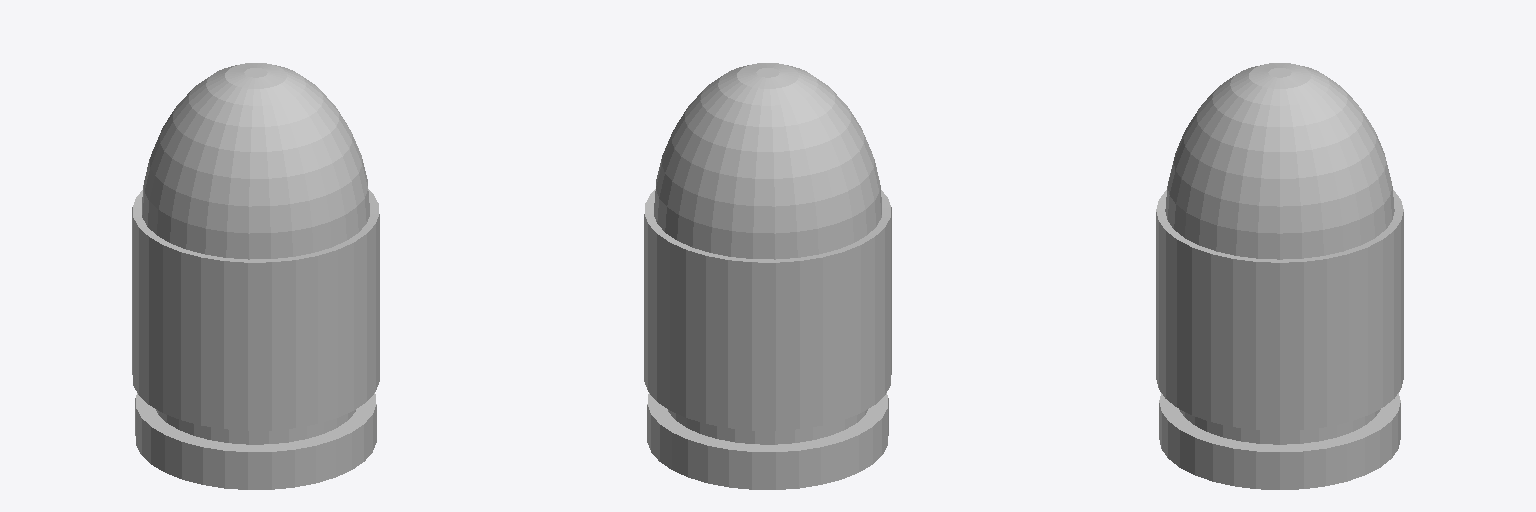
Rendered from bullet.obj.
3 views of the same model, side by side, from view 1: azimuth 30°, elevation 25°; view 2: azimuth 150°, elevation 25°; view 3: azimuth 270°, elevation 25° (orthographic).
Visible parts, largest first — view 1: Cylinder; view 2: Cylinder; view 3: Cylinder.
Boxes of the visible parts, x1=… form: Cylinder: x1=132, y1=63, x2=379, y2=489; Cylinder: x1=644, y1=63, x2=891, y2=489; Cylinder: x1=1156, y1=63, x2=1403, y2=489.
Size of the model in its own units: 2 by 3.27 by 2.